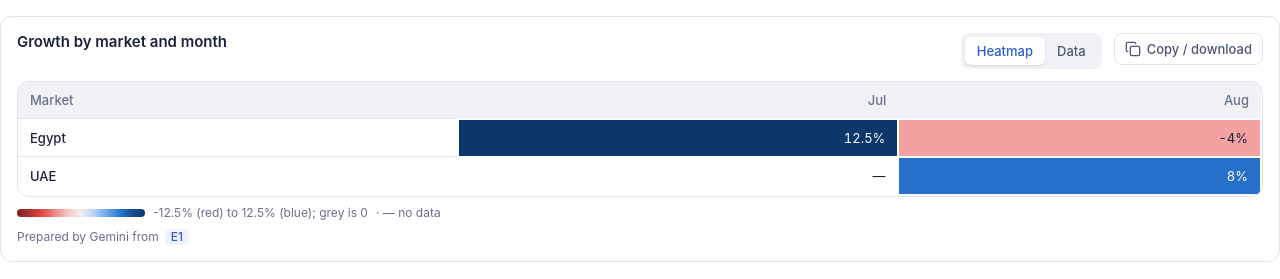
Test: a heatmap in an answer › is a table of shaded cells with the value in each, a legend, and its data a click away
The image size is (1280, 279).
Check: the elements with test id "heat-cell" read "12.5%", "-4%", "—", "8%", in this order, box [458,119,898,157]; [898,119,1261,157]; [458,157,898,195]; [898,157,1261,195]
Check: the element with test id "heat-legend" shows "-12.5% (red) to 12.5% (blue); grey is 0", box [17,205,441,220]
Click the button "Data" at (1071, 51), box [1045,37,1098,65]
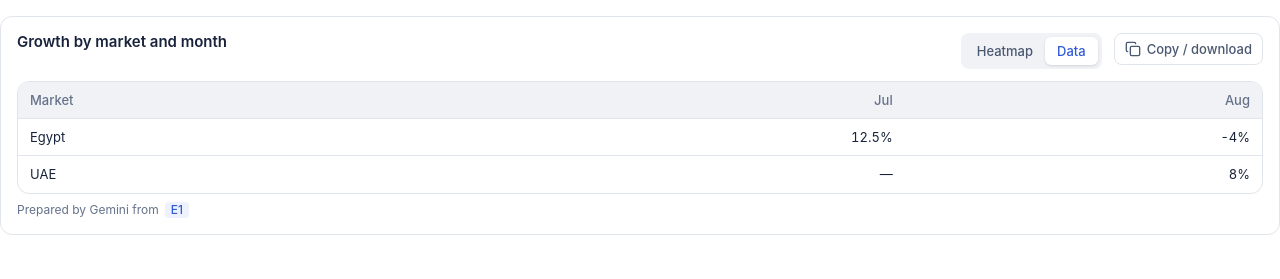
Check: the element with test id "visual-heatmap" is gone
